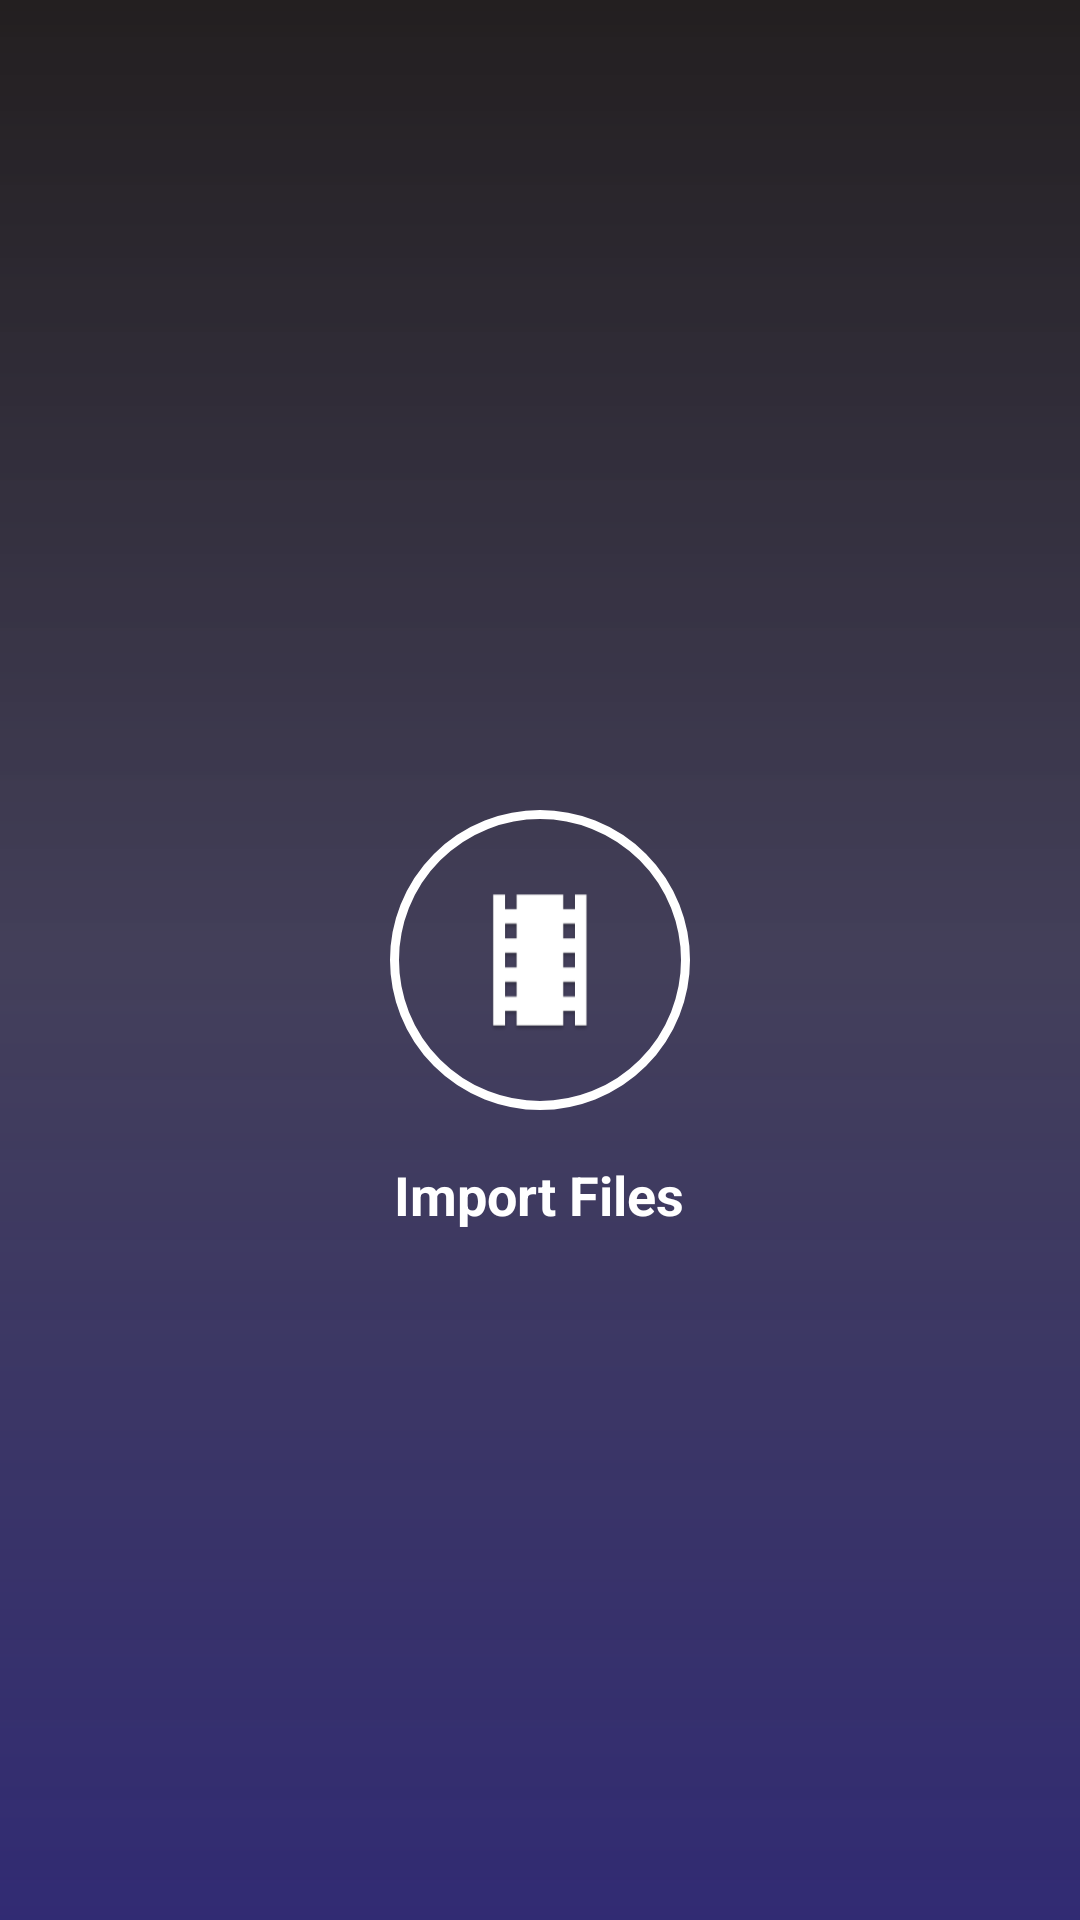

Icon bounding boxes for this 1080*1920 phone screenshot, format (x1, y1, x2, y2):
movie: (493, 894, 587, 1026)
